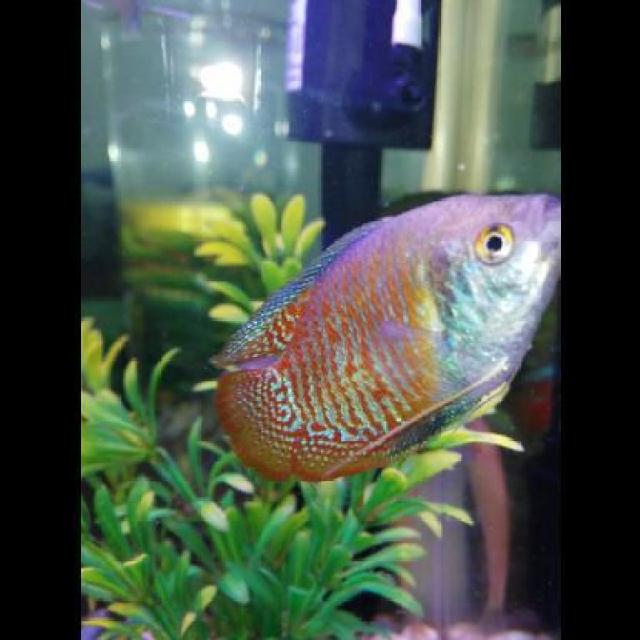Gourami: (209, 192, 557, 478)
